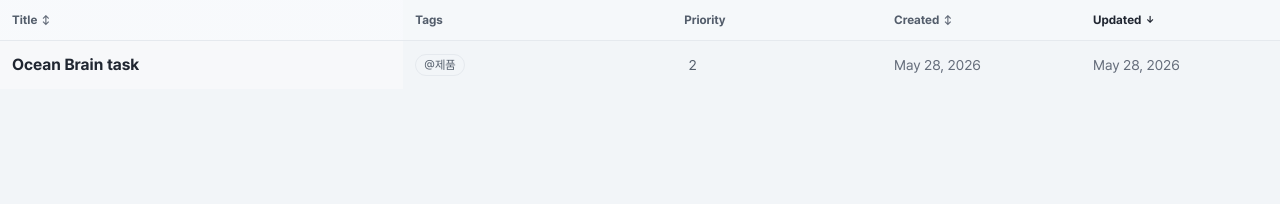
Test case: editing table properties › preserves a conflicting draft until the user reloads the saved value
The width and height of the screenshot is (1280, 204).
Click the button named "Edit Priority for Ocean Brain task": (777, 65) [684, 53, 870, 77]
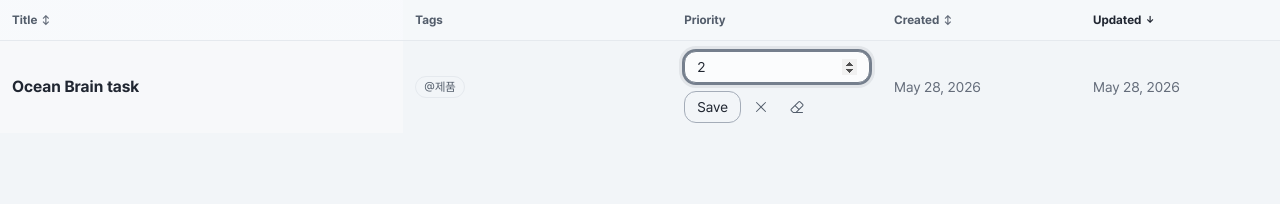
Replace the text in the number field named "Priority value" with "3": (777, 67) [684, 51, 870, 83]
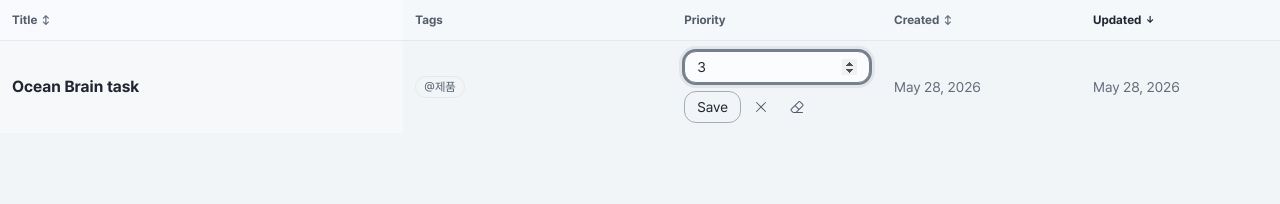
Press Enter
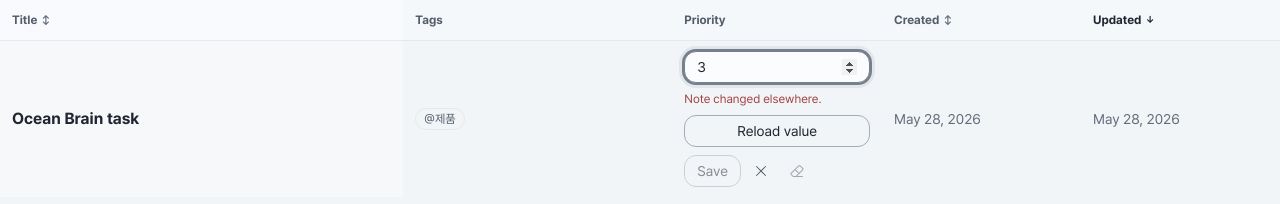
Now the message reads "Note changed elsewhere.", box [684, 92, 822, 106]
Now the button with aria-label "Save Priority" is disabled, box [684, 155, 741, 187]
Click the button with aria-label "Reload latest value": (777, 131) [684, 115, 870, 147]
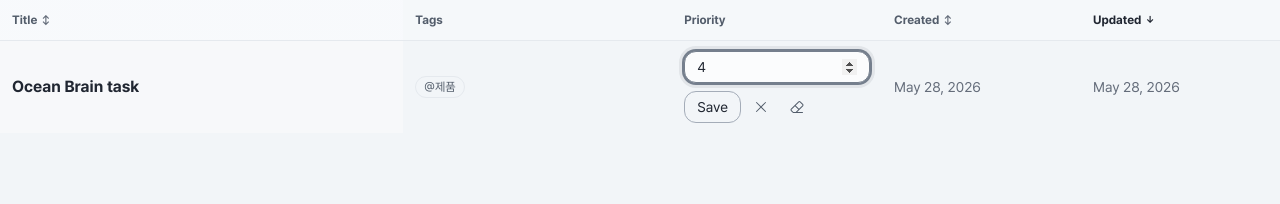
Now the number field named "Priority value" holds "4", box [684, 51, 870, 83]
Now the button with aria-label "Save Priority" is enabled, box [684, 91, 741, 123]
